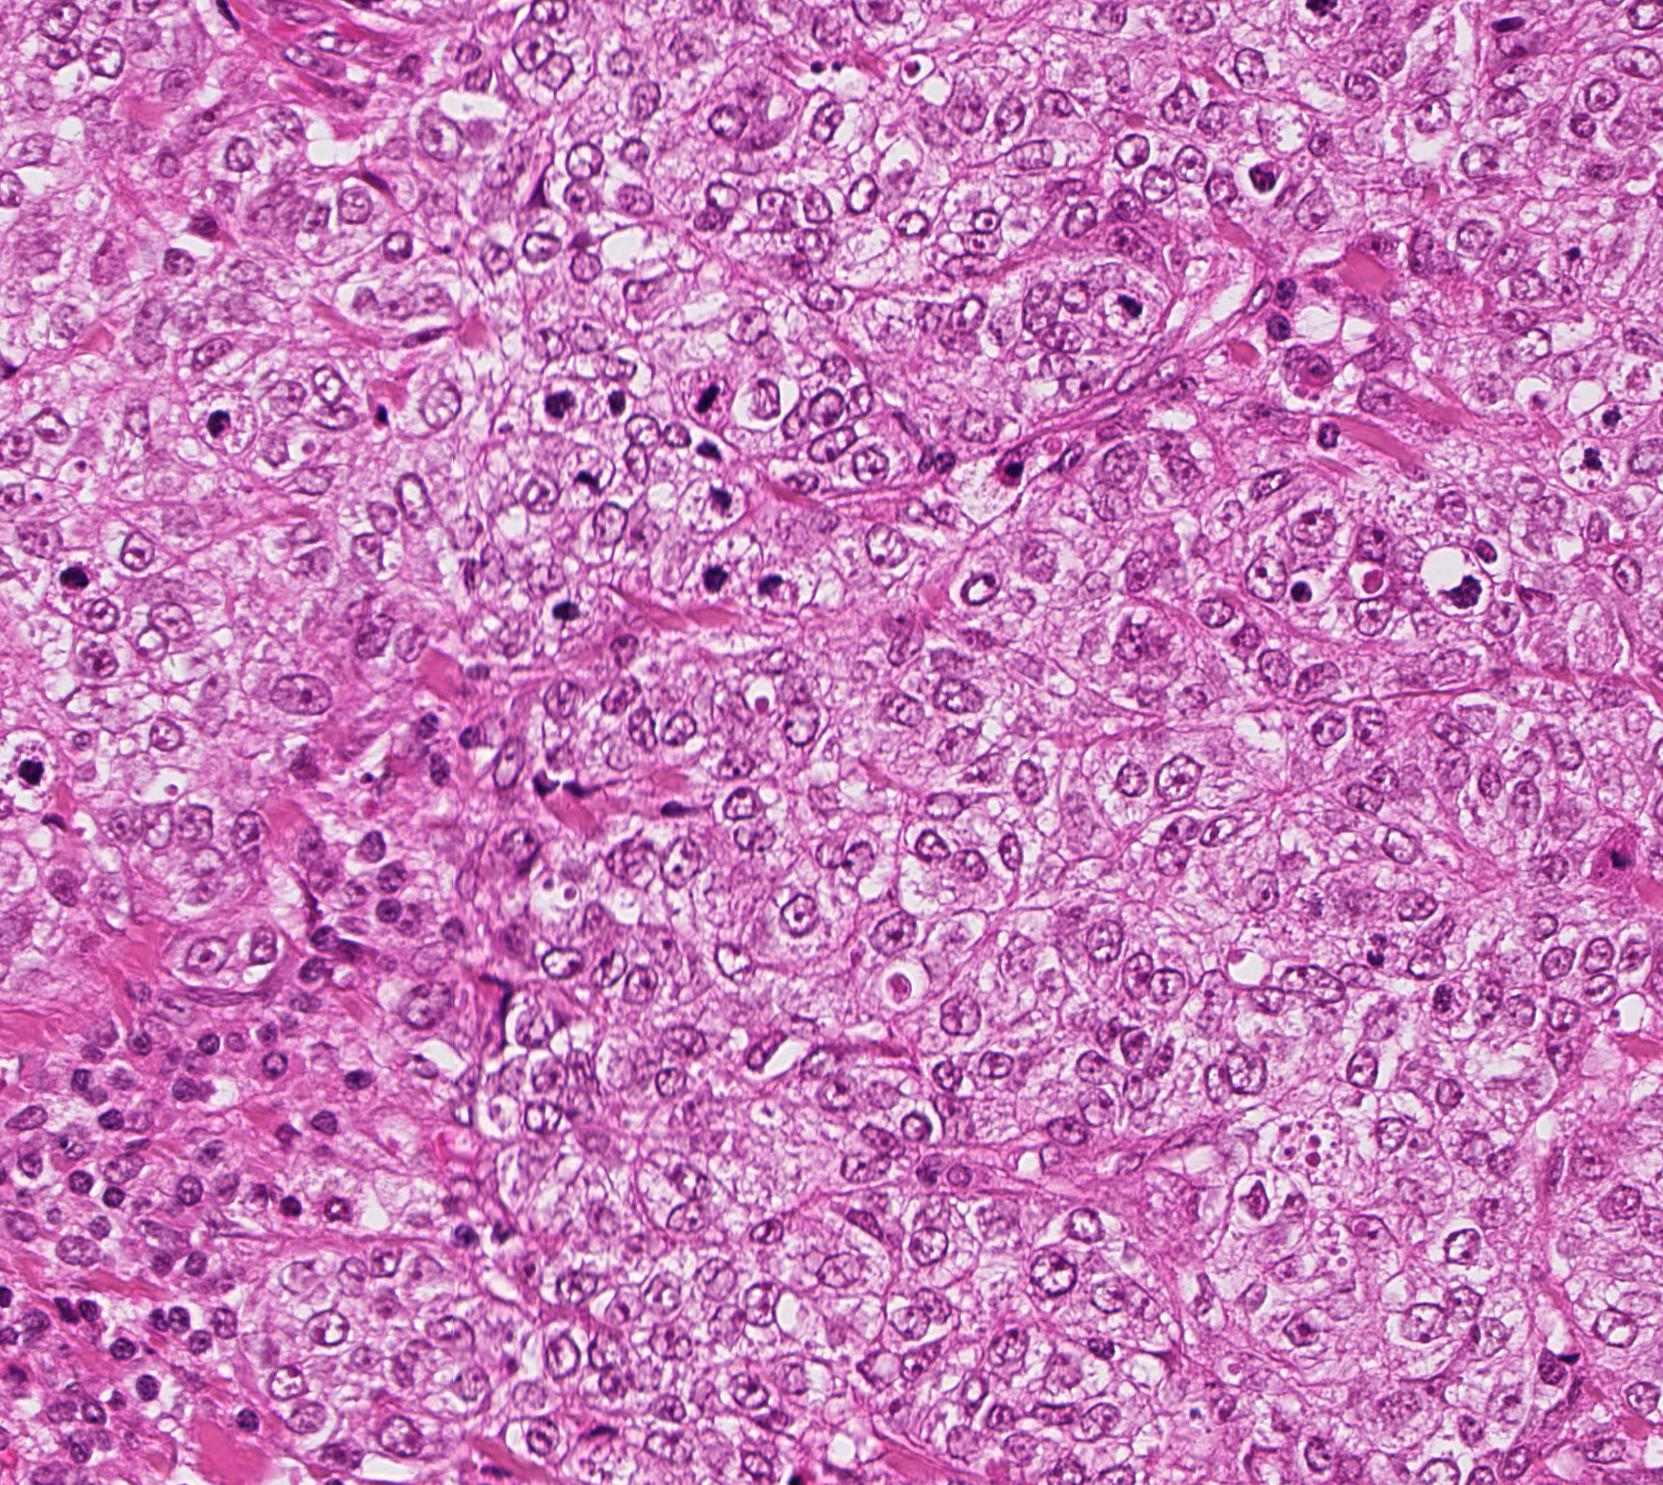mitosis: (6, 737, 66, 797), (734, 556, 794, 616), (535, 573, 595, 634), (1104, 269, 1164, 330), (529, 364, 589, 424), (188, 397, 248, 457), (677, 540, 735, 601)
